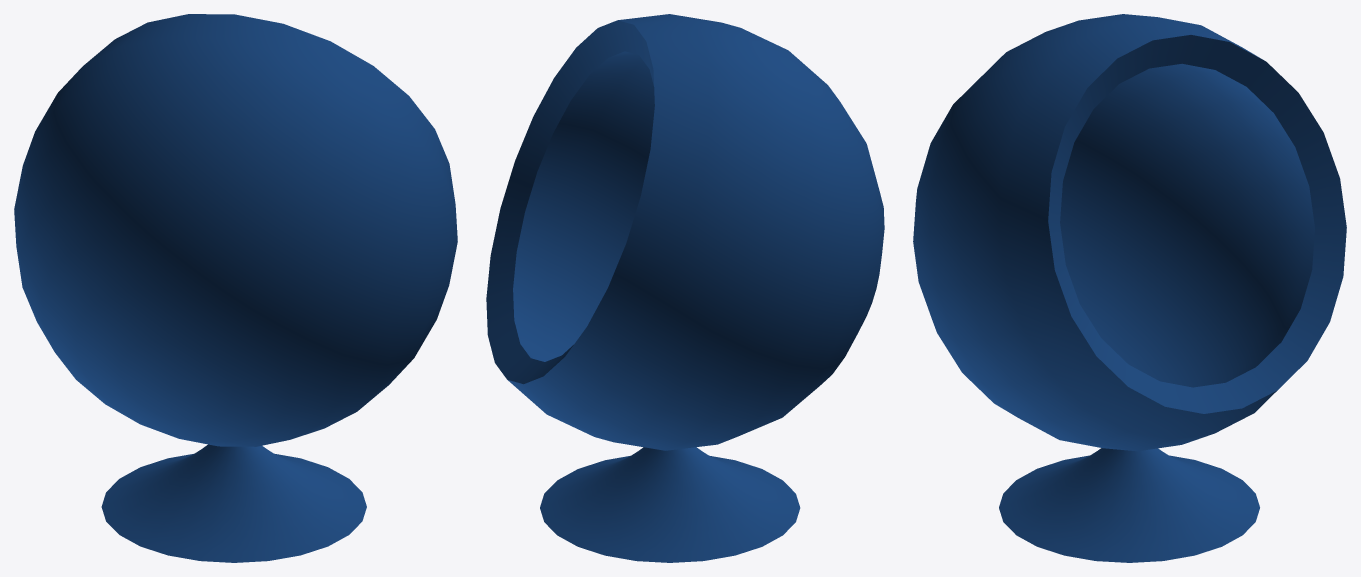
The model's file is Silla_Stand1.obj.
3 views of the same model, side by side, from view 1: azimuth 30°, elevation 25°; view 2: azimuth 150°, elevation 25°; view 3: azimuth 270°, elevation 25° (orthographic).
Parts seen in each view (by area): view 1: Silla_Stand1; view 2: Silla_Stand1; view 3: Silla_Stand1.
Boxes of the visible parts, x1=… form: Silla_Stand1: x1=14, y1=14, x2=457, y2=562; Silla_Stand1: x1=486, y1=14, x2=884, y2=562; Silla_Stand1: x1=913, y1=14, x2=1346, y2=562.
Size of the model in its own units: 1.01 by 1.22 by 1.01.
Materials: 1 (1 with a texture image).
